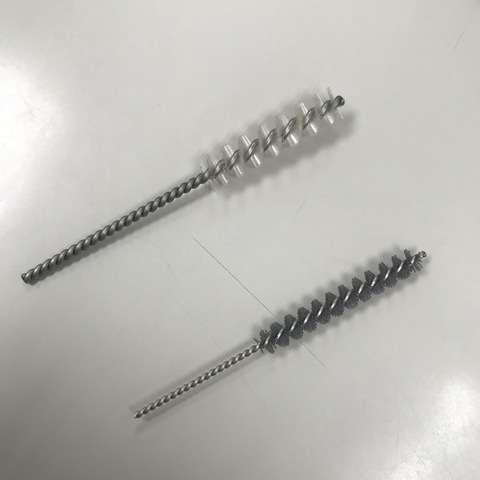Twist Brush-A: (124, 245, 432, 441)
Twist Brush-B: (19, 89, 352, 283)
